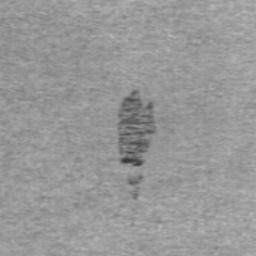Secondary rust skin: (117, 90, 156, 168), (125, 175, 144, 187)
